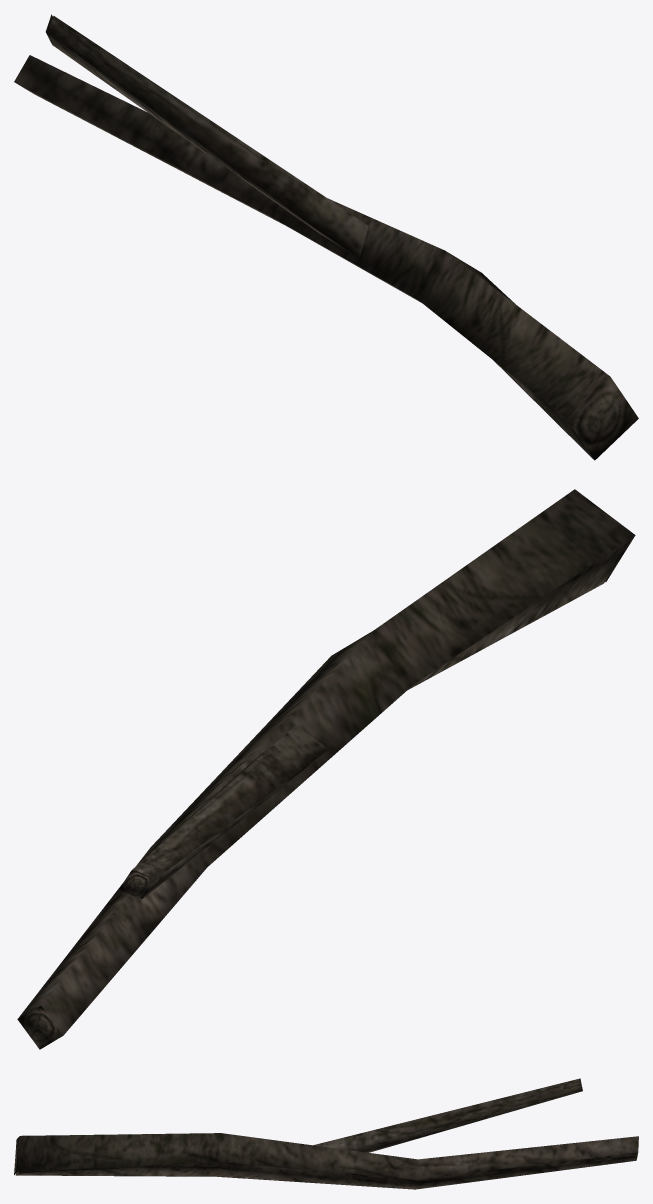
File: MEP_S_Branch_04.fbx
3 renders of one model, top to bottom at view 1: azimuth 30°, elevation 25°; view 2: azimuth 150°, elevation 25°; view 3: azimuth 270°, elevation 25°, orthographic. The views are drawn at different scales.
Parts seen in each view (by area): view 1: MEP_S_Branch_04; view 2: MEP_S_Branch_04; view 3: MEP_S_Branch_04.
Boxes of the visible parts, x1,y1,x2,y2 form: MEP_S_Branch_04: [14, 14, 638, 460]; MEP_S_Branch_04: [17, 489, 635, 1049]; MEP_S_Branch_04: [14, 1078, 638, 1189].
Size of the model in its own units: 0.5899 by 0.5262 by 3.62.
